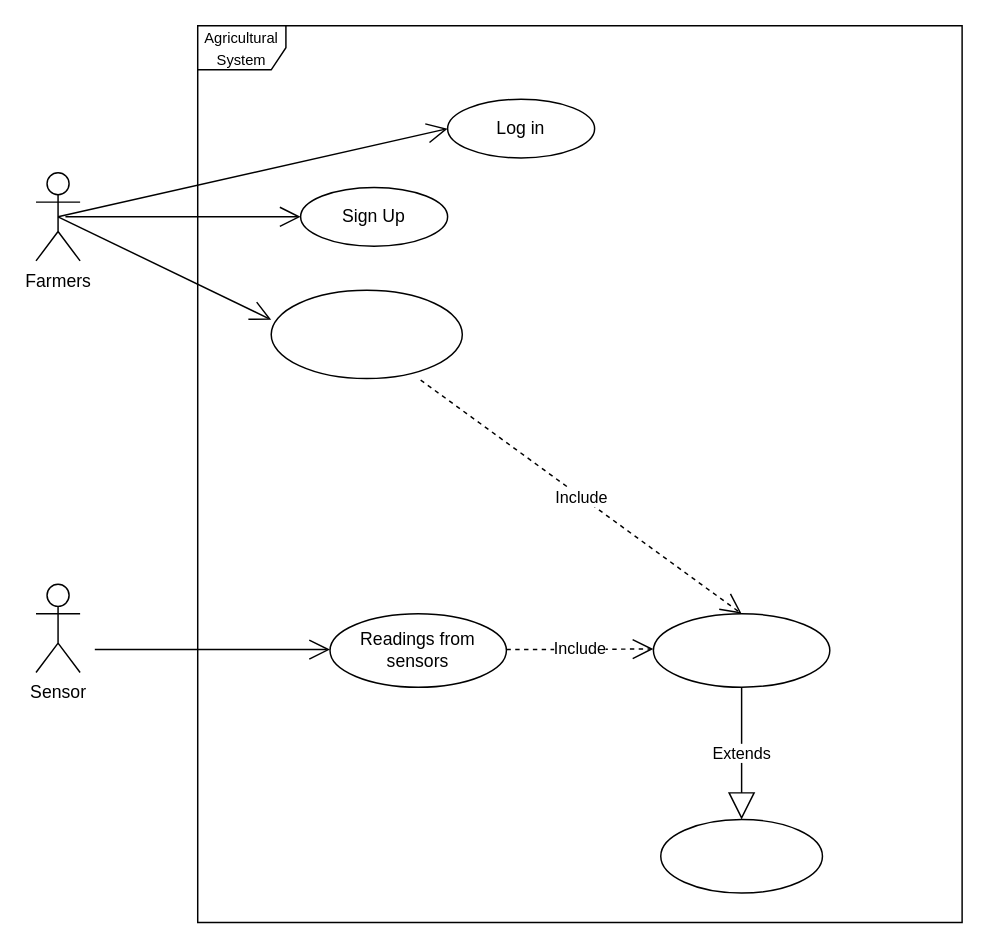
Image size: 988x948. Some labels were removed from this diagram. Here are the shapes that lost their labels. From the top down, the box of each, then its label:
(270, 289, 462, 379): Enter plant and sensor specification
(652, 612, 830, 687): Analyze readings
(659, 818, 822, 893): Recommend actions
